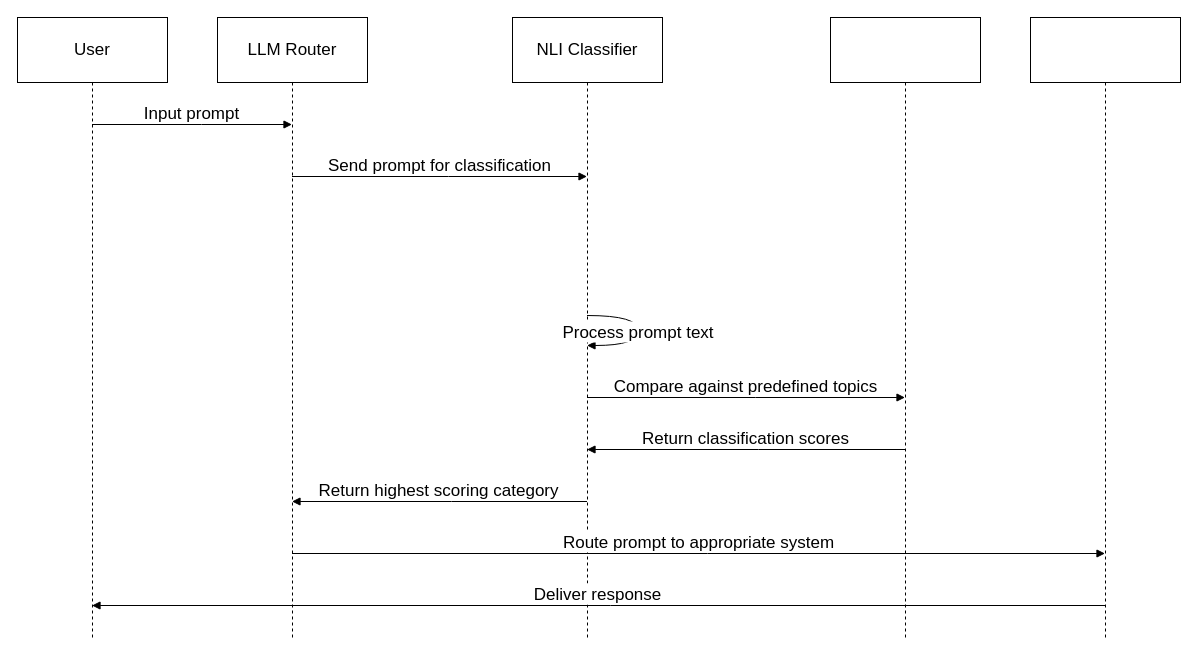
The diagram is 1198 pixels wide and 655 high, and some of its shapes have lost their labels. Each missing label, with the box of its shape:
Target System (Eg; Tool, Agent API): (1030, 16, 1180, 638)
Topic Categories: (830, 16, 980, 638)
